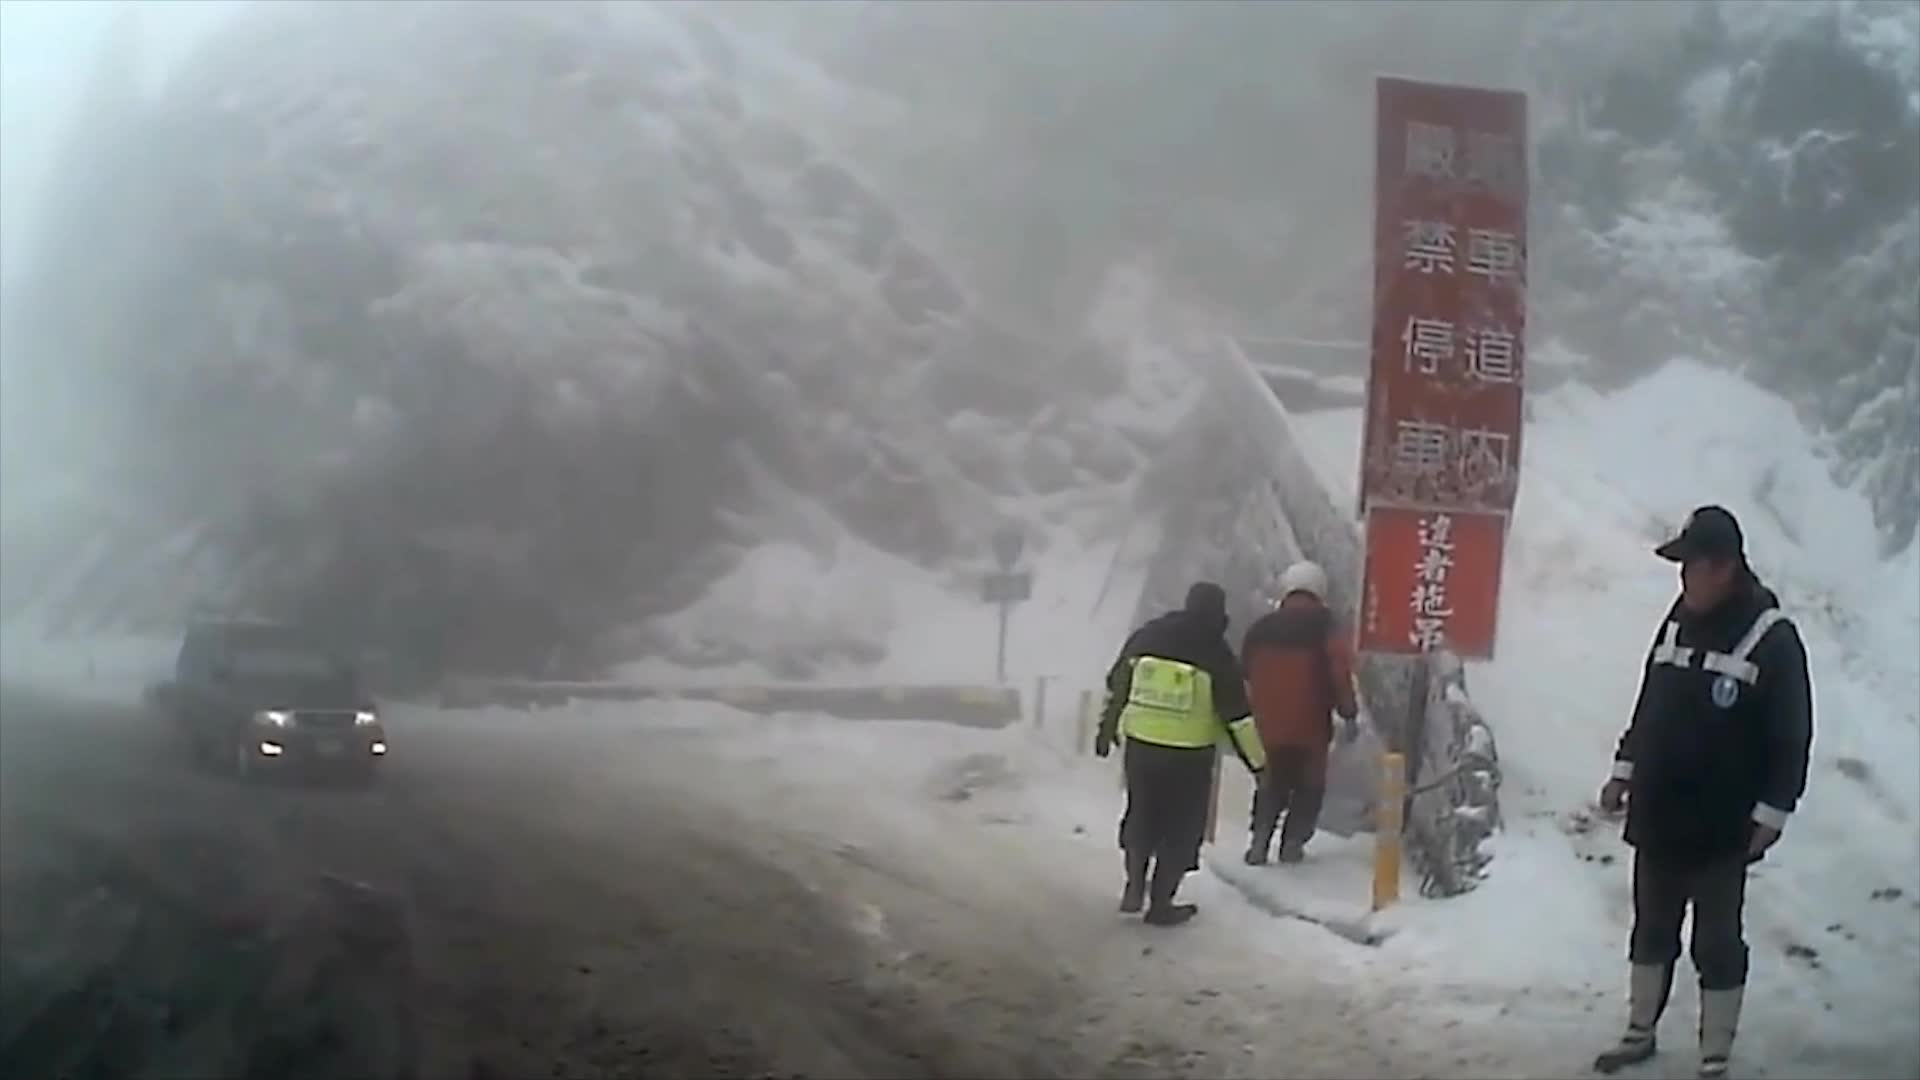pedestrian: (1597, 507, 1816, 1078), (1090, 584, 1258, 932), (1236, 558, 1359, 865)
vehicle: (173, 621, 388, 791)
